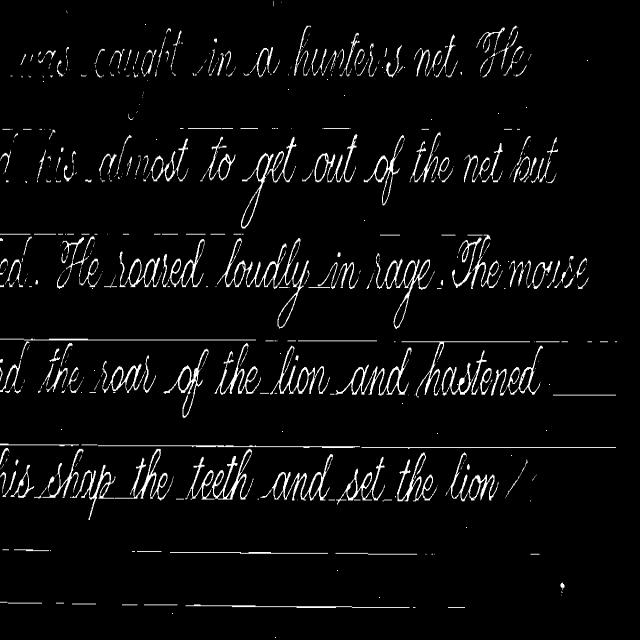noise: (0, 442, 616, 450), (130, 548, 435, 557), (121, 601, 416, 609), (0, 336, 258, 341), (400, 340, 571, 345), (0, 231, 74, 237), (0, 546, 53, 554), (287, 340, 378, 344), (554, 392, 616, 396), (55, 602, 99, 607), (188, 127, 233, 131), (467, 234, 490, 241), (0, 601, 45, 604), (585, 340, 616, 344), (560, 581, 566, 596), (322, 127, 350, 130), (154, 233, 178, 236), (48, 128, 56, 137), (503, 128, 520, 132), (380, 233, 400, 236), (186, 233, 205, 236), (240, 127, 259, 130), (0, 127, 14, 131), (530, 552, 541, 557), (210, 233, 225, 236), (441, 233, 455, 236), (38, 127, 45, 132), (22, 128, 33, 131), (234, 233, 244, 236), (420, 128, 430, 131), (81, 233, 90, 236), (271, 127, 278, 130), (14, 133, 18, 137)
not-noise: (0, 146, 557, 228), (20, 26, 531, 93), (210, 236, 588, 312), (0, 456, 441, 501), (209, 348, 540, 396), (54, 236, 210, 290), (0, 356, 158, 394), (462, 136, 558, 183), (160, 353, 208, 417), (215, 342, 261, 394), (410, 132, 454, 182), (445, 464, 500, 501), (0, 253, 58, 288), (396, 452, 433, 500), (366, 136, 404, 182), (38, 343, 72, 392), (0, 340, 29, 393), (130, 449, 161, 498), (228, 451, 252, 499), (313, 153, 344, 180), (64, 448, 83, 492)
